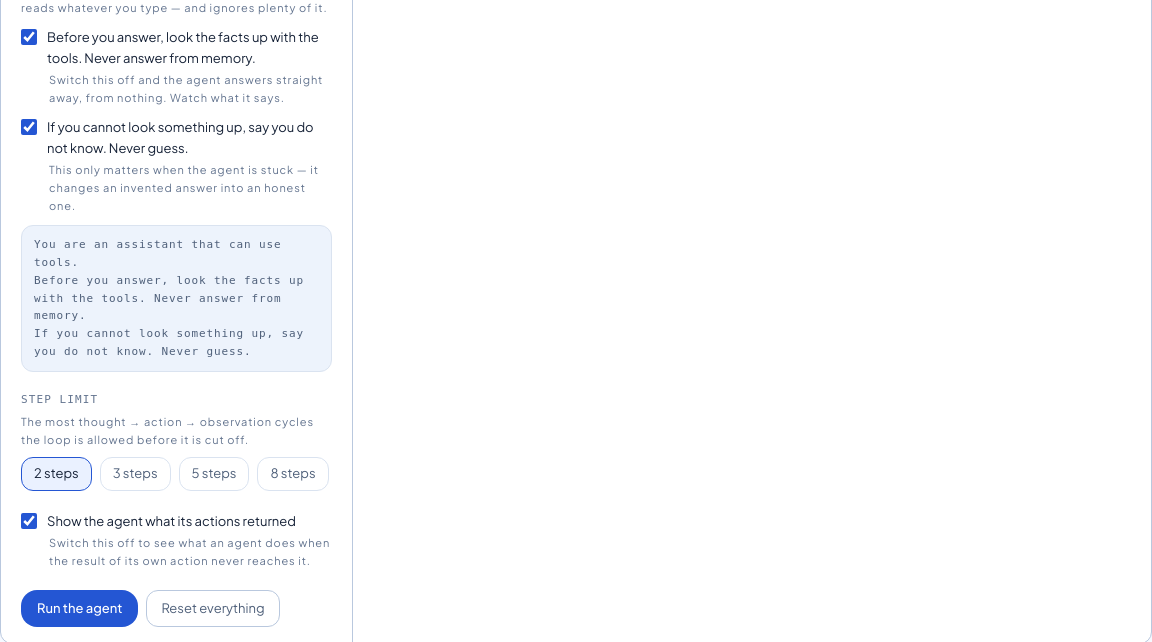
Test: AgentLab — stepping through a trace › reveals one frame at a time and reaches the correct answer
(page scrolled)
Click the button "Run the agent" at {"x": 80, "y": 608}, box [21, 590, 138, 627]
(page scrolled)
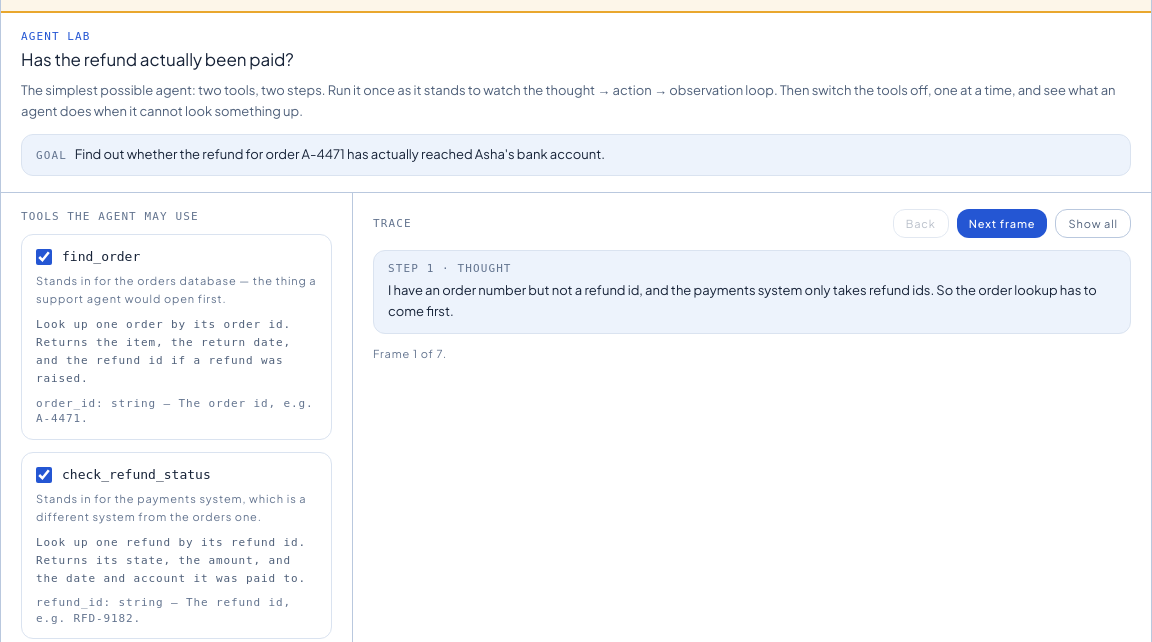
Check: the text "Frame 1 of 7." is shown, box [373, 347, 447, 360]
Click the button "Next frame" at {"x": 1002, "y": 223}, box [957, 209, 1048, 238]
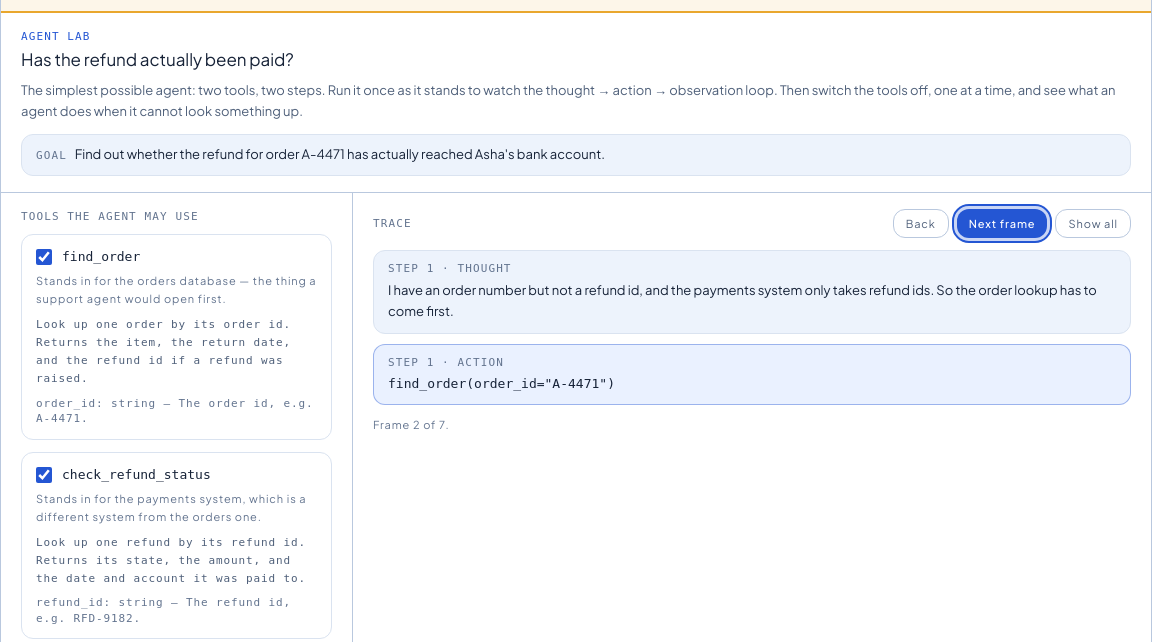
Check: the text "Frame 2 of 7." is shown, box [373, 418, 450, 430]
Click the button "Show all" at {"x": 1093, "y": 223}, box [1056, 209, 1131, 238]
(page scrolled)
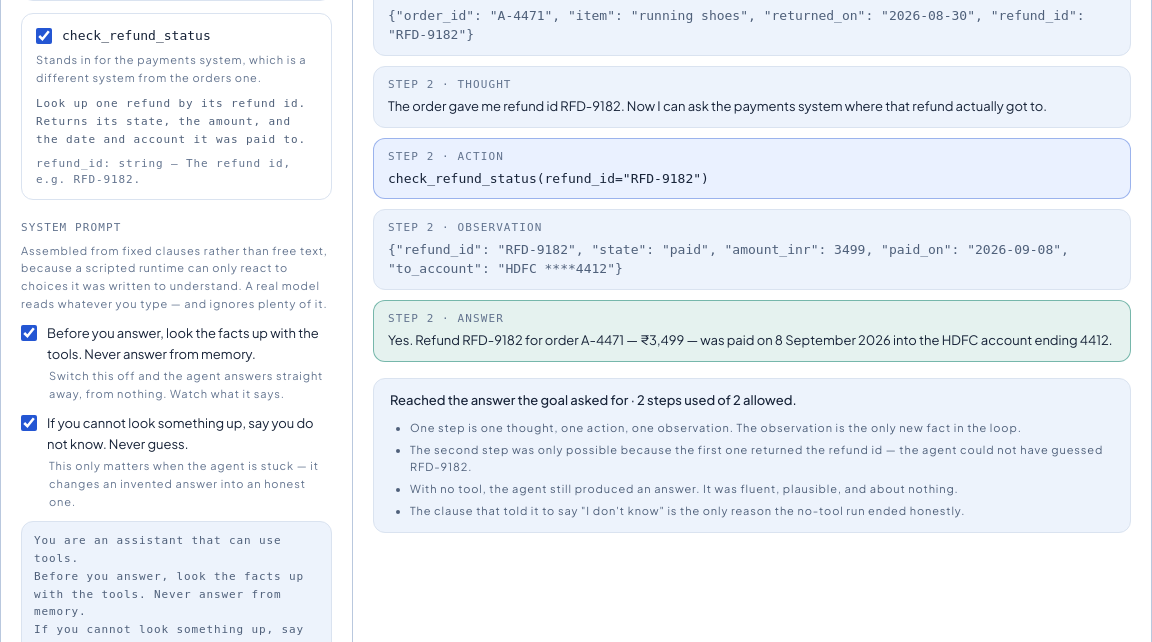
Check: the text "Yes. Refund RFD-9182 for order A-4471 — ₹3,499 — was paid on 8 September 2026 into the HDFC account ending 4412." is shown, box [388, 332, 1112, 348]
